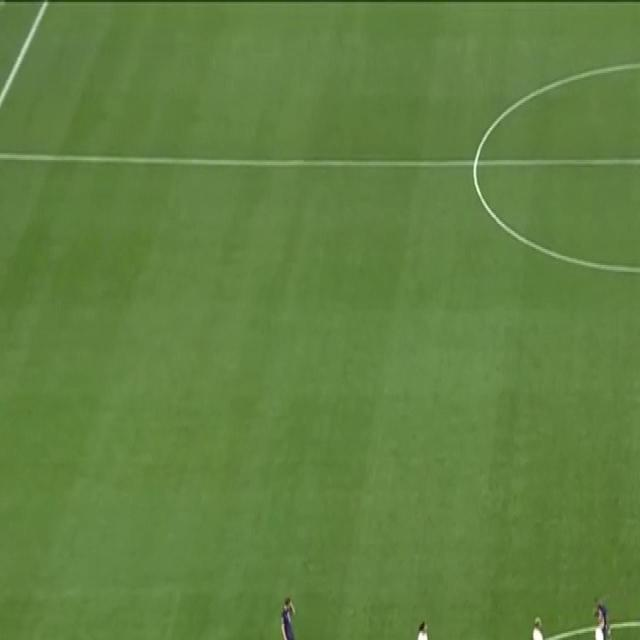player-white: (586, 592, 611, 640), (276, 592, 298, 640), (413, 613, 435, 640), (526, 613, 548, 640), (589, 613, 608, 640)
